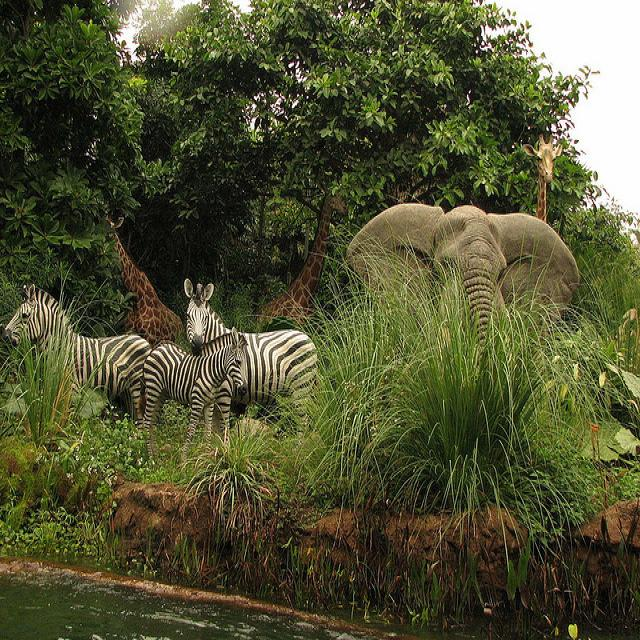Elephant: (345, 200, 580, 364)
